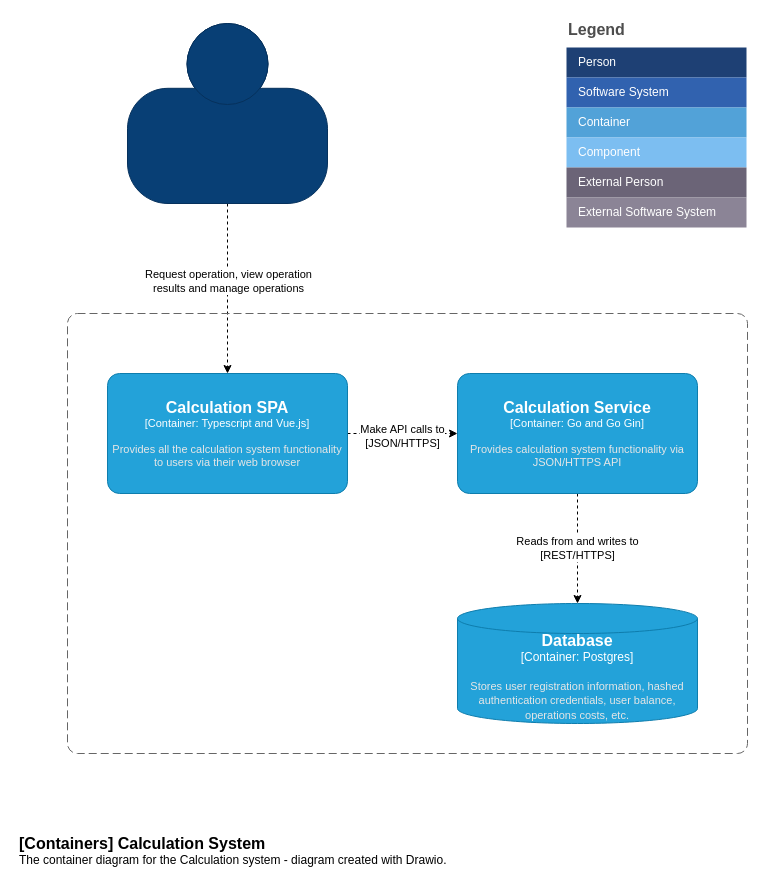
Some shapes in this 765 by 885 pixel diagram are drawn without their labels. Here are the shapes that lost their labels. From the top down, the box of each, then its label:
(126, 22, 328, 204): Calculation System User [Person] A registered calculation system user
(66, 312, 748, 754): Calculation System [Software System]
